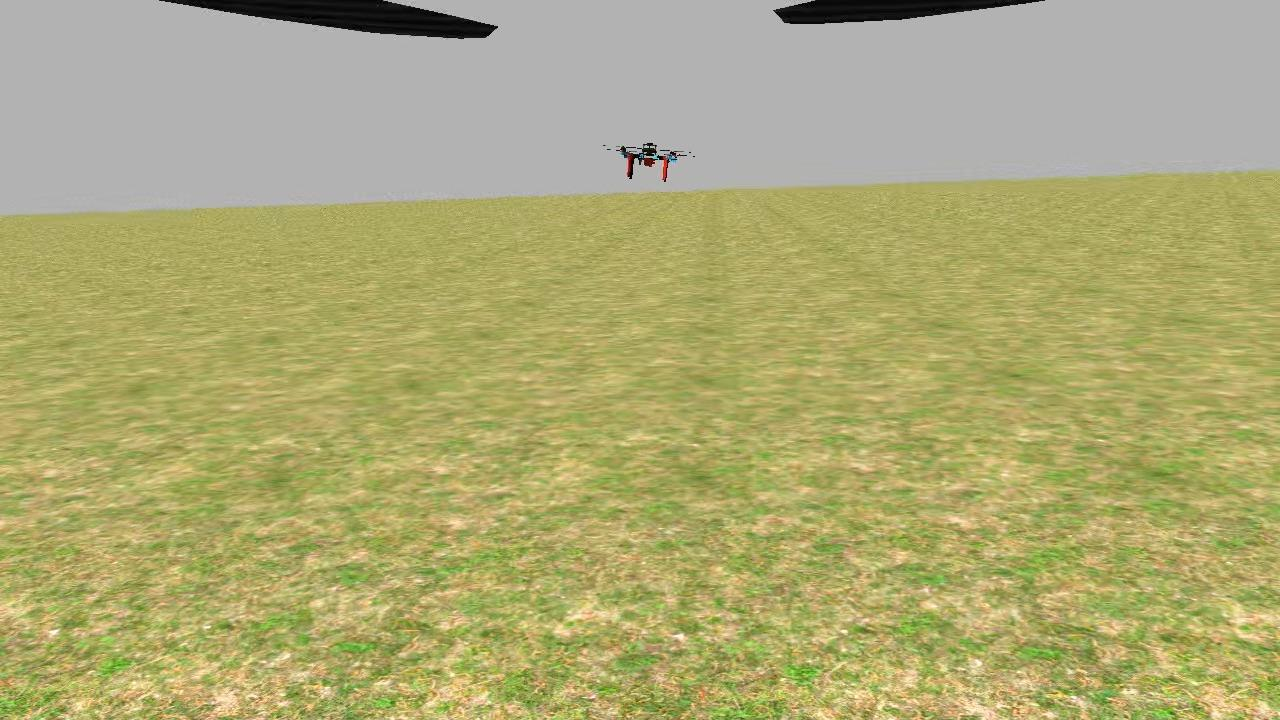UAV: (605, 137, 690, 190)
